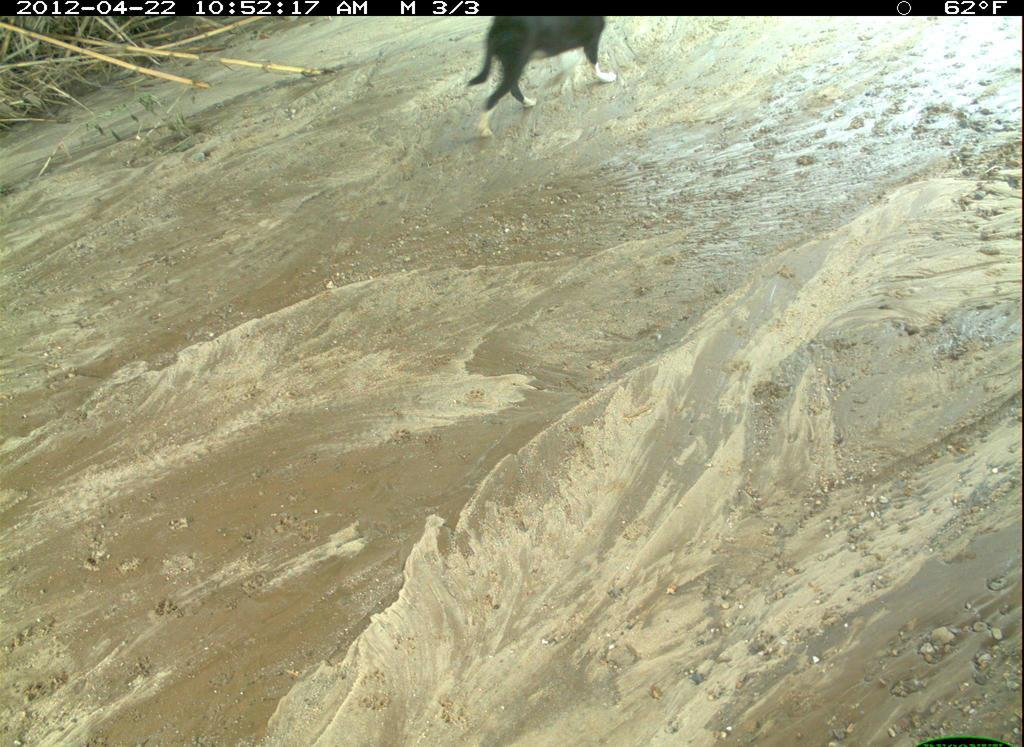dog: (925, 34, 1024, 277)
